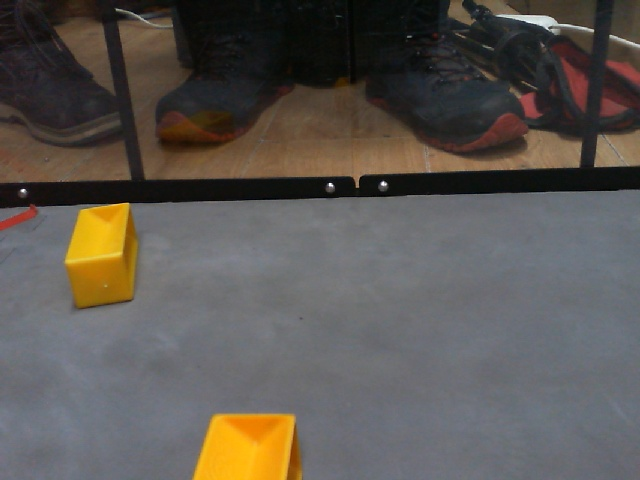YellowSample: (57, 200, 148, 311), (183, 407, 305, 480)
